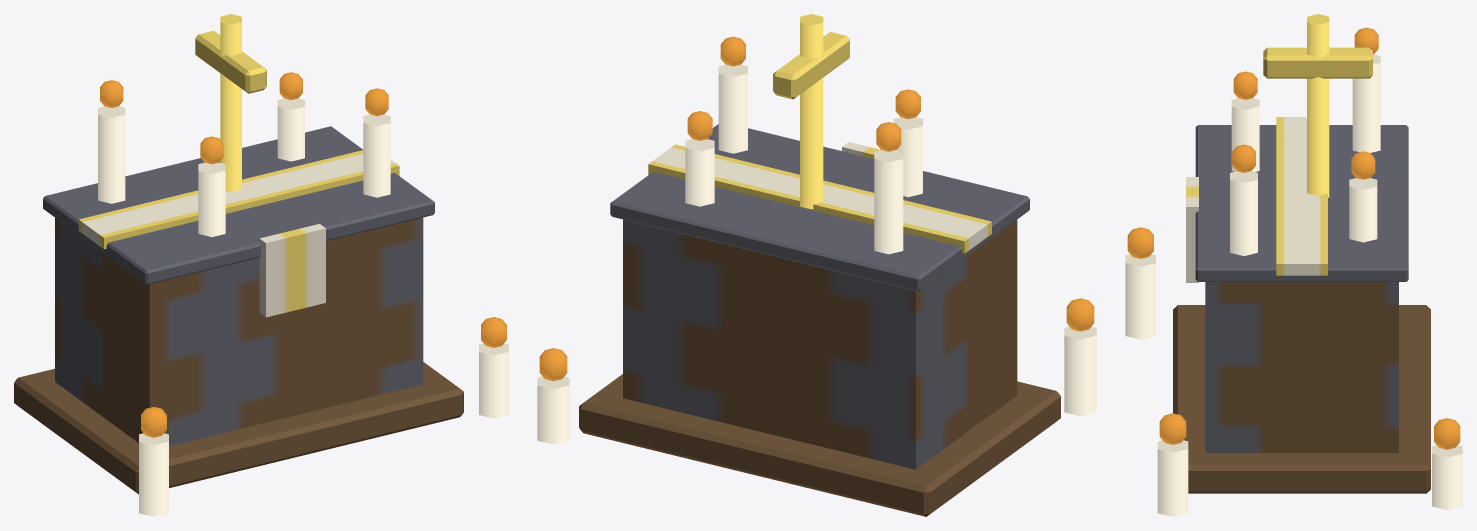
Rendered from prop_altar_f02f.glb.
3 renders of one model, left to right at view 1: azimuth 30°, elevation 25°; view 2: azimuth 150°, elevation 25°; view 3: azimuth 270°, elevation 25°, orthographic. The views are drawn at different scales.
Parts seen in each view (by area): view 1: prop_altar_f02f; view 2: prop_altar_f02f; view 3: prop_altar_f02f.
Part boxes in pixels (box(x1,y1,x2,y2)): prop_altar_f02f: box(14, 14, 508, 516); prop_altar_f02f: box(537, 14, 1096, 516); prop_altar_f02f: box(1125, 14, 1462, 516).
Bounding box in the file's own units: 1.25 × 1.19 × 0.9238.
3 materials, 3 textured.
